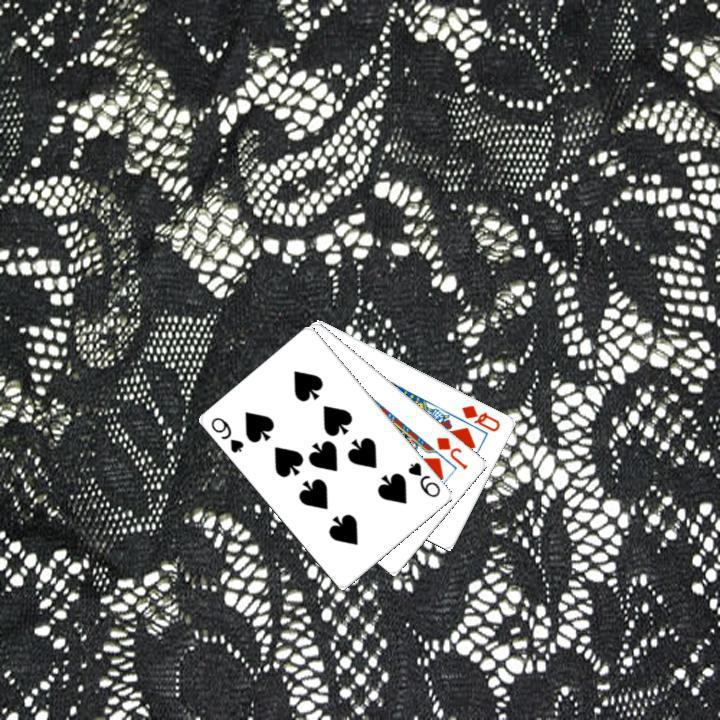9: (404, 457, 443, 500), (207, 413, 246, 455)
J: (432, 432, 470, 472)
Q: (457, 400, 502, 434)
